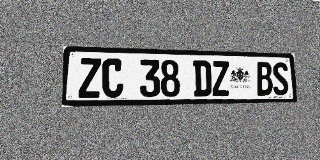3: (140, 59, 160, 97)
8: (160, 60, 180, 97)
B: (256, 62, 273, 96)
C: (102, 58, 123, 98)
D: (193, 60, 212, 96)
S: (272, 62, 289, 95)
Z: (78, 58, 101, 98), (211, 61, 230, 96)
